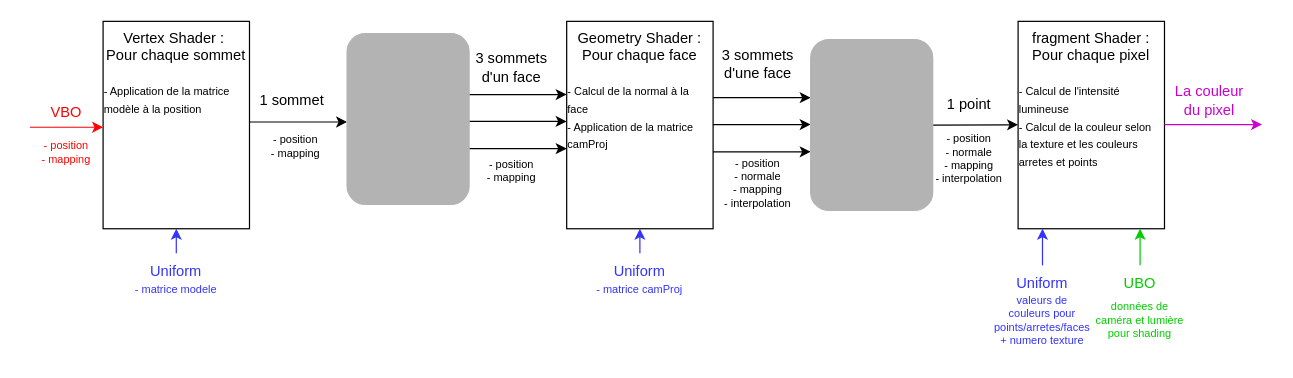
The diagram is 1293 pixels wide and 378 high, and some of its shapes have lost their labels. The centre of each missing label's shape, as x and y in pixels:
"Connnection des points avec le EBO" goes at point 407,118.
"Rasterisation : interpolation des 3 sommets vers un point de la face" goes at point 871,124.
